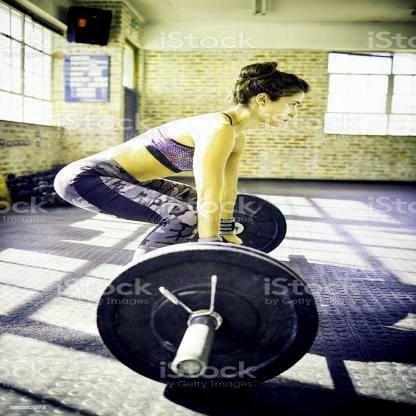Barbell: (163, 354, 212, 385)
